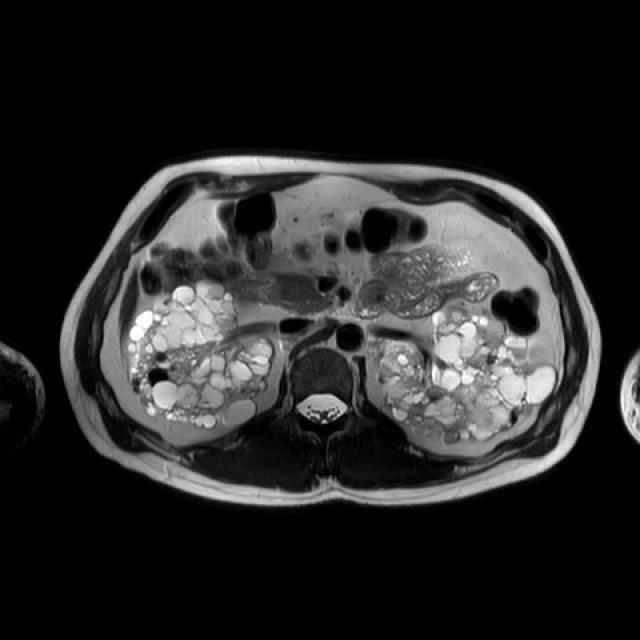sag: (125, 278, 276, 430)
sol: (365, 295, 558, 445)
